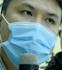with_mask: (1, 1, 62, 70)
